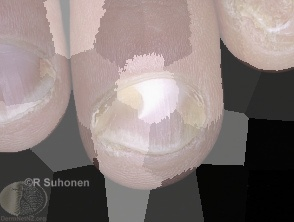Nail_psoriasis: (60, 6, 252, 208), (0, 1, 66, 159), (211, 0, 294, 66)
